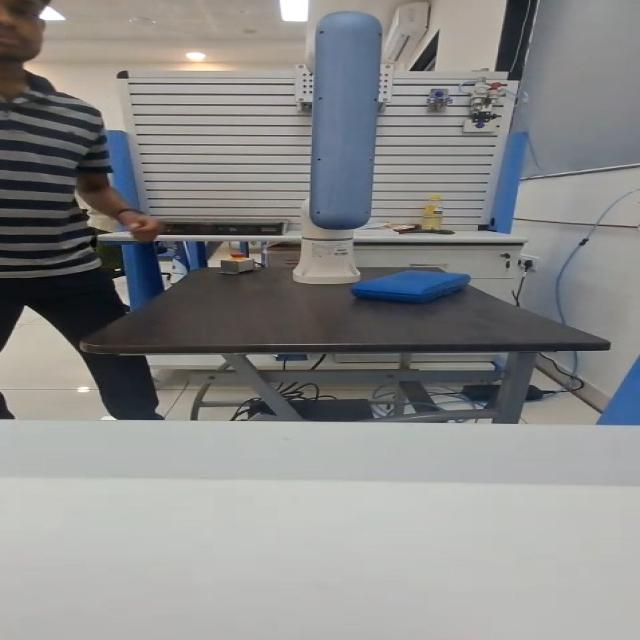top-surface: (366, 272, 460, 288)
